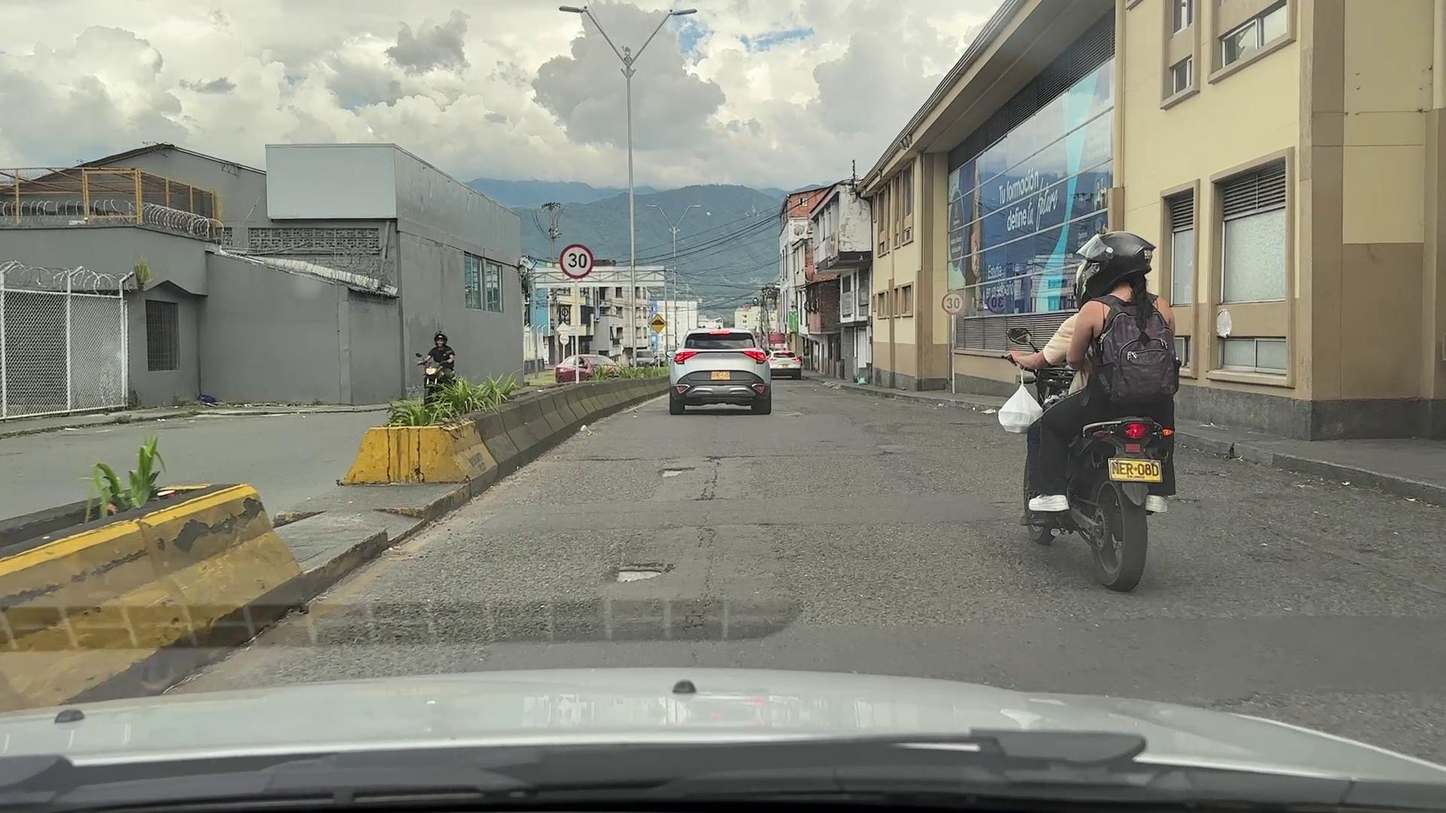bache: (617, 568, 663, 582), (662, 470, 688, 477)
grieta: (692, 468, 726, 501), (702, 455, 759, 467)
